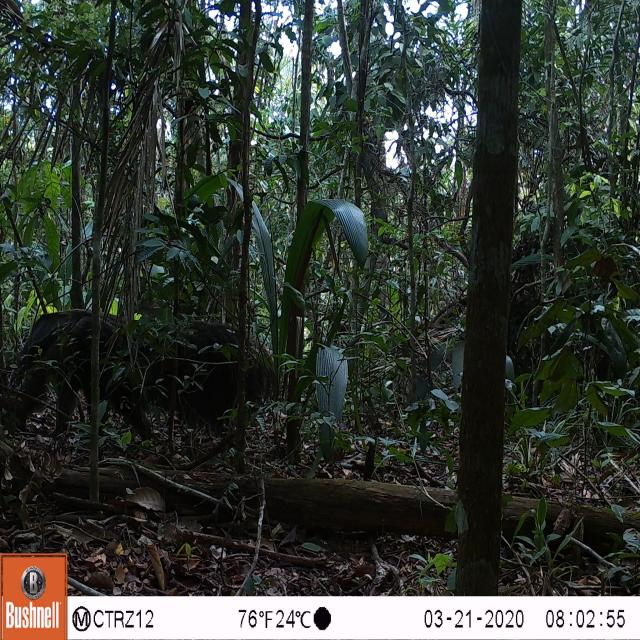Giant Anteater: (0, 296, 287, 451)
